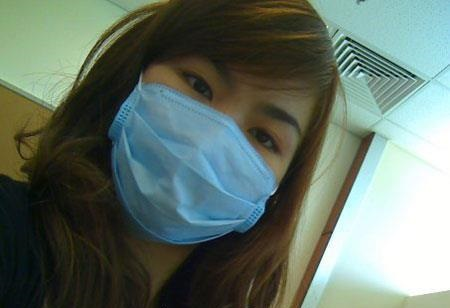face_mask: (112, 43, 301, 242)
